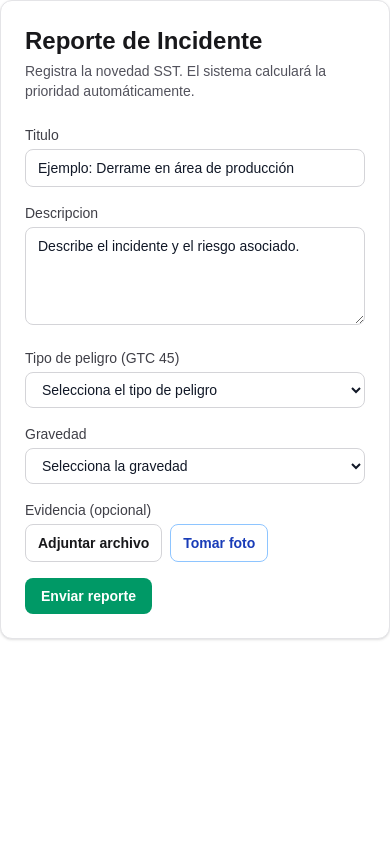
it: resultados visibles en el flujo de reporte › explica cuando la cámara no tiene permiso
Click the button "Tomar foto".
click(219, 543)  # box x1=170 y1=524 x2=268 y2=562
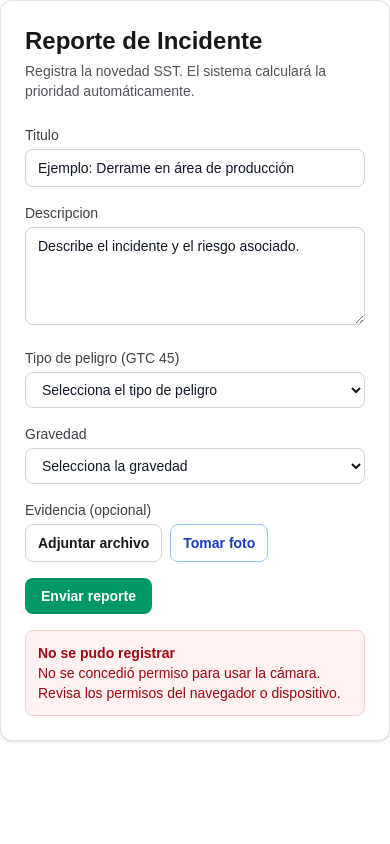
Expected: the message shows "No se concedió permiso", x1=38 y1=665 x2=341 y2=701
